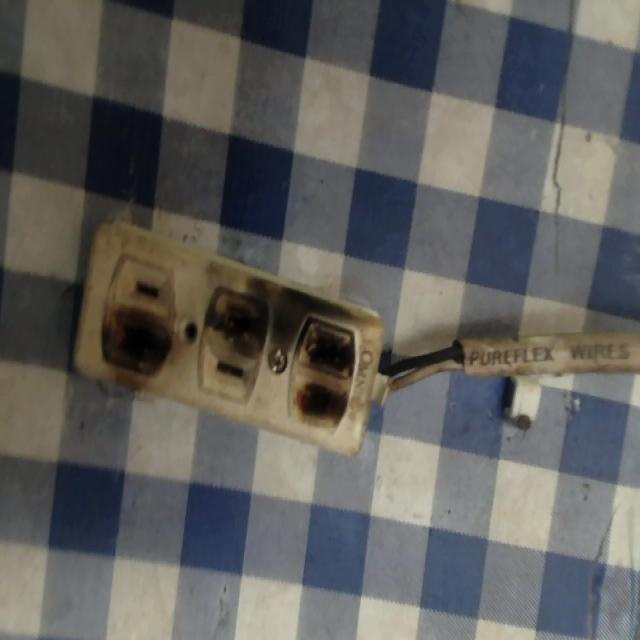-: (284, 293, 371, 452), (197, 267, 280, 360), (95, 305, 177, 380)
